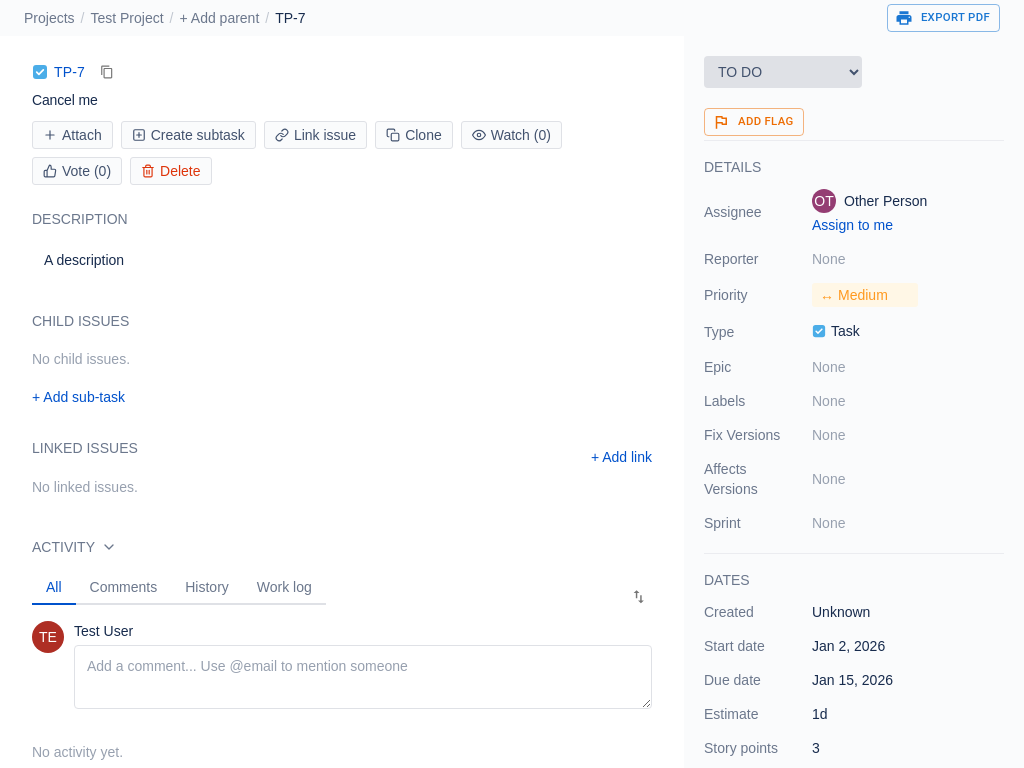
Test: JL-354 — inline-edit Cancel abandons the edit (Due date) › shows the original value again when reopened after a Cancel
The width and height of the screenshot is (1024, 768).
Expected: the heading "Cancel me" is shown, [32,92,98,108]
Click the element with class "id-inline-display" showing "Jan 15, 2026". click: (852, 680)
box: [812,672,893,688]
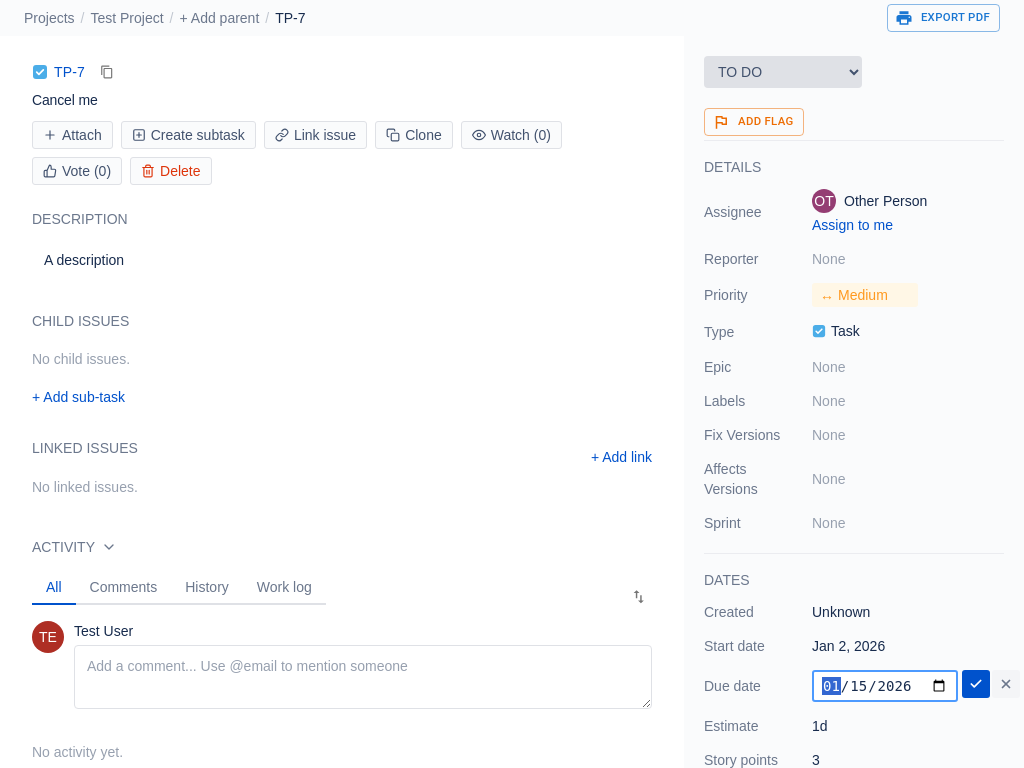
Type "2026-03-20" into the date field. click: (885, 686)
box: [812,670,958,702]
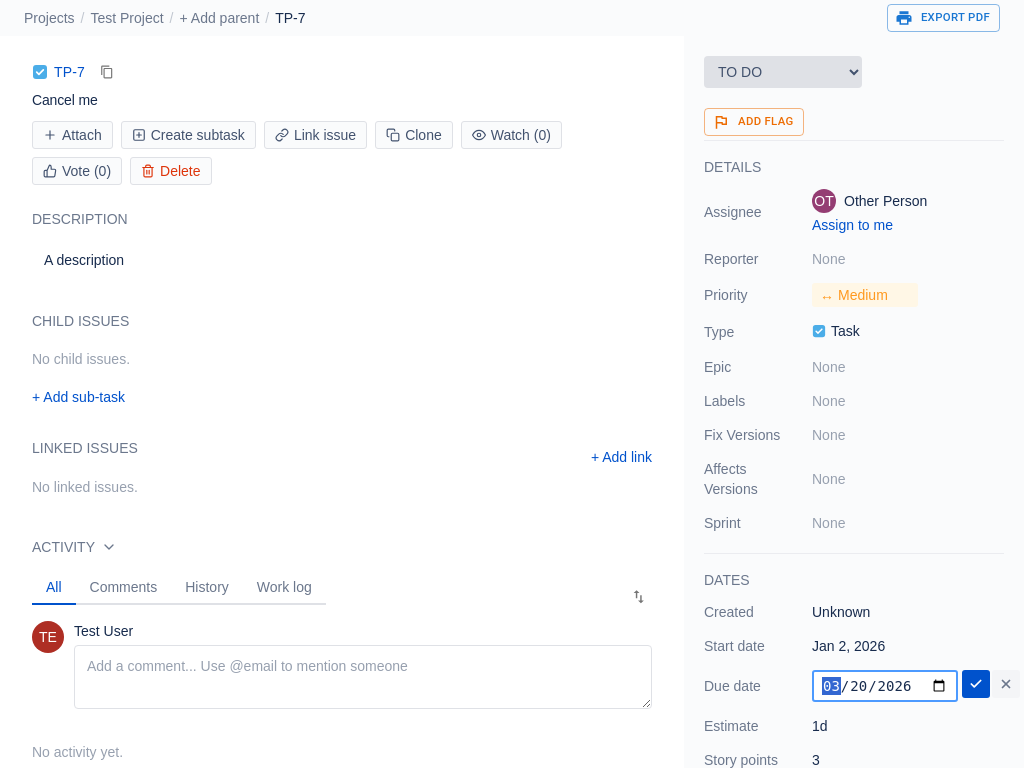
Click the button with class "id-inline-cancel". click: (1006, 684)
box: [992,670,1020,698]
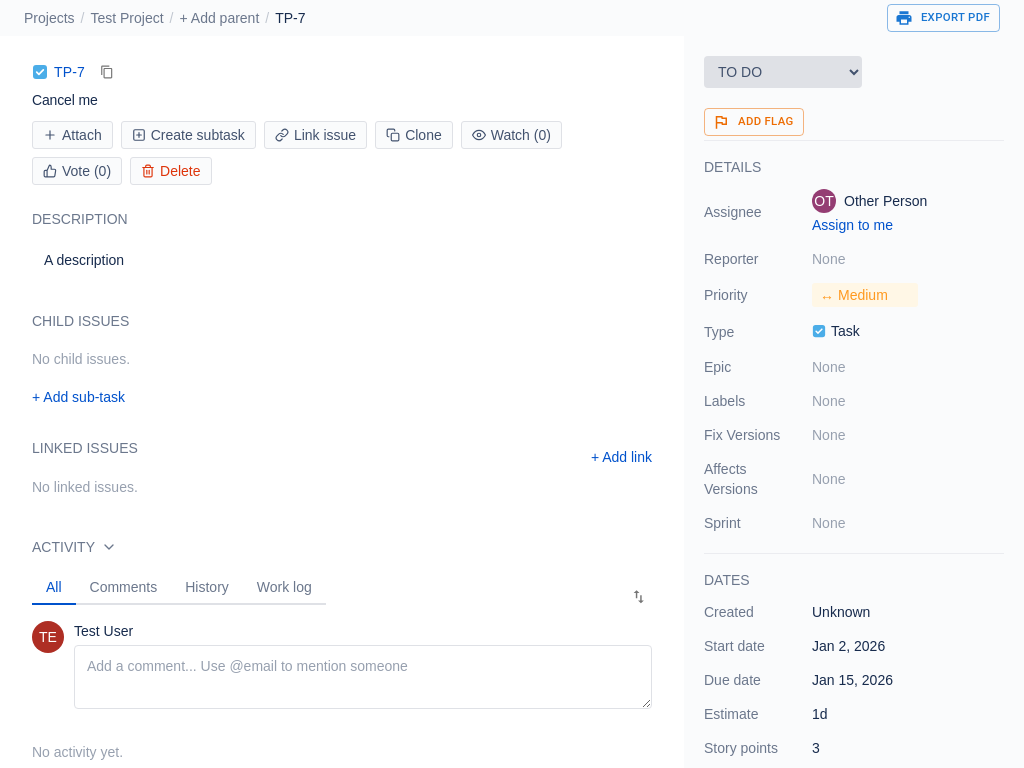
Result: the date field is gone
Click the element with class "id-inline-display" showing "Jan 15, 2026". click: (852, 680)
box: [812,672,893,688]
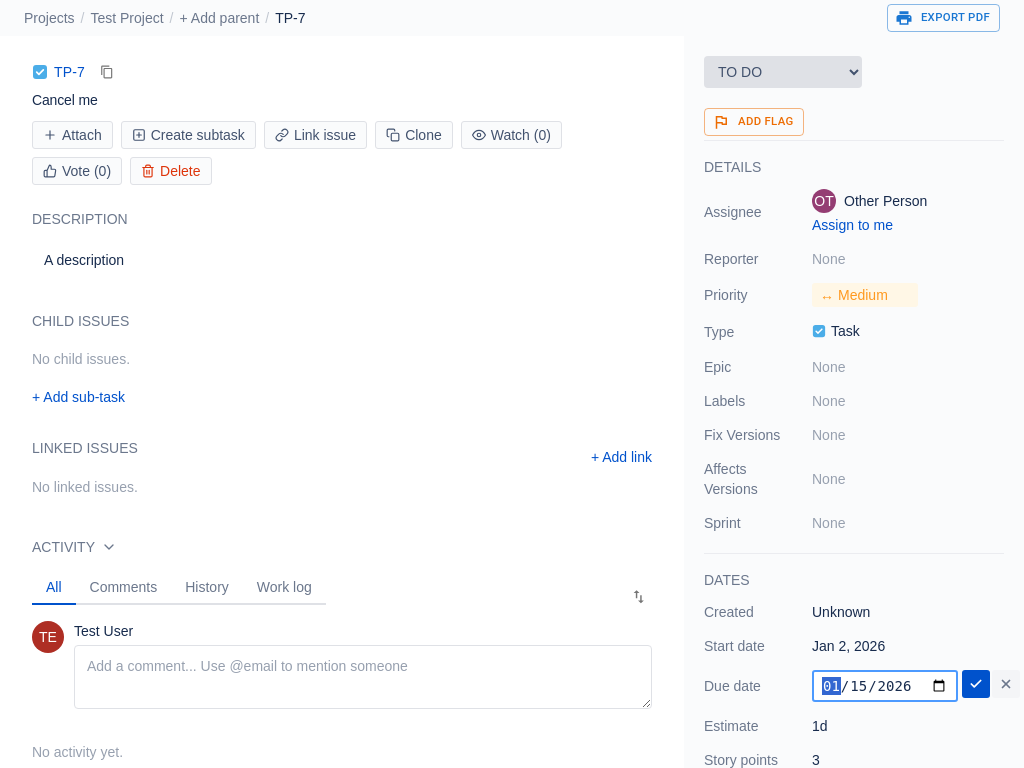
Result: the date field holds "2026-01-15" at [812,670,958,702]
